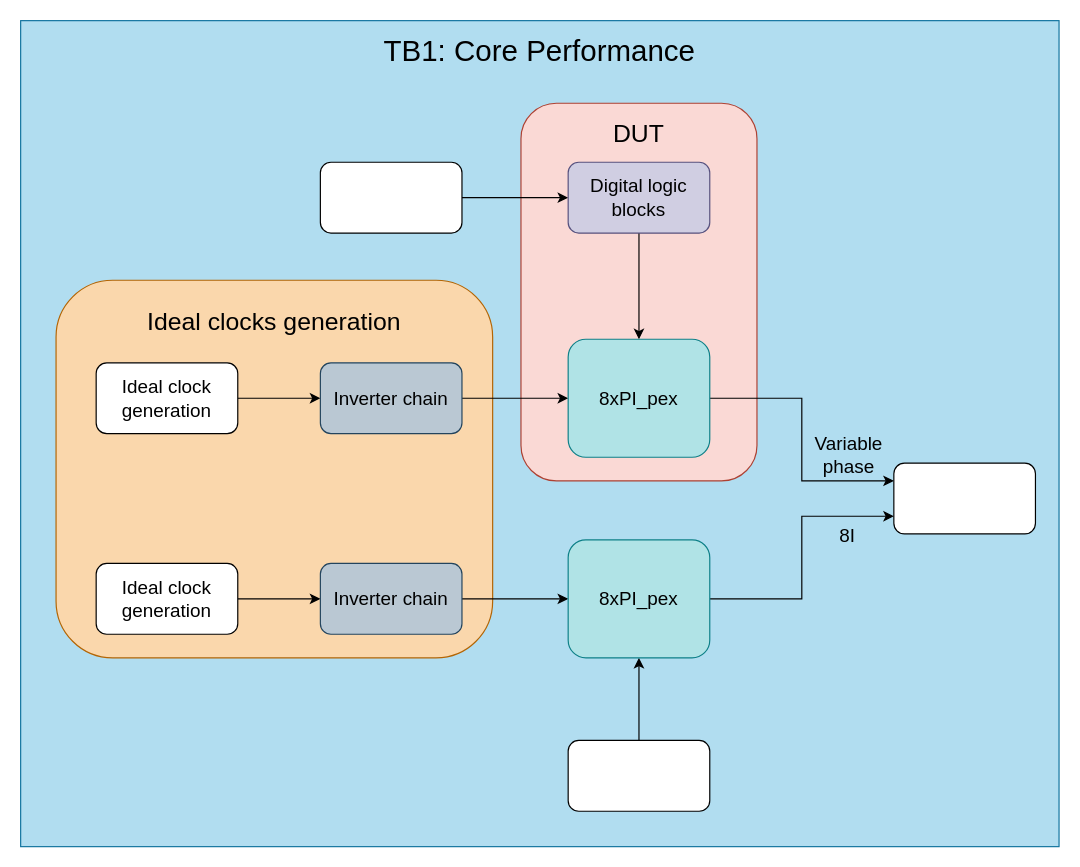
The diagram is 1080 pixels wide and 867 high, and some of its shapes have lost their labels. Each missing label, with the box of its shape:
Inputs for 8I phase: (567, 739, 710, 811)
To Python post-processing: (893, 462, 1035, 534)
Up Counter: (319, 161, 462, 233)
